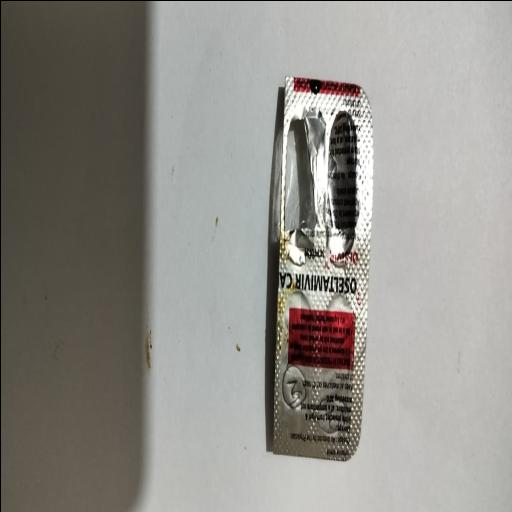oseltamvir: (246, 49, 377, 462)
